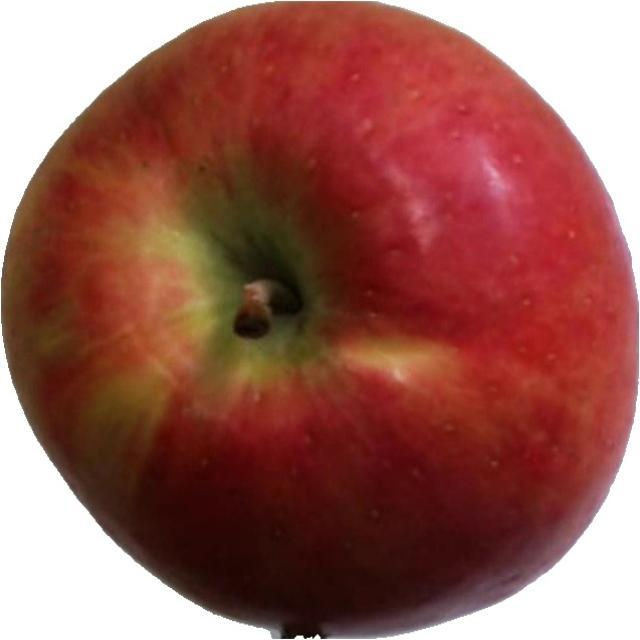apple: (2, 3, 637, 636)
